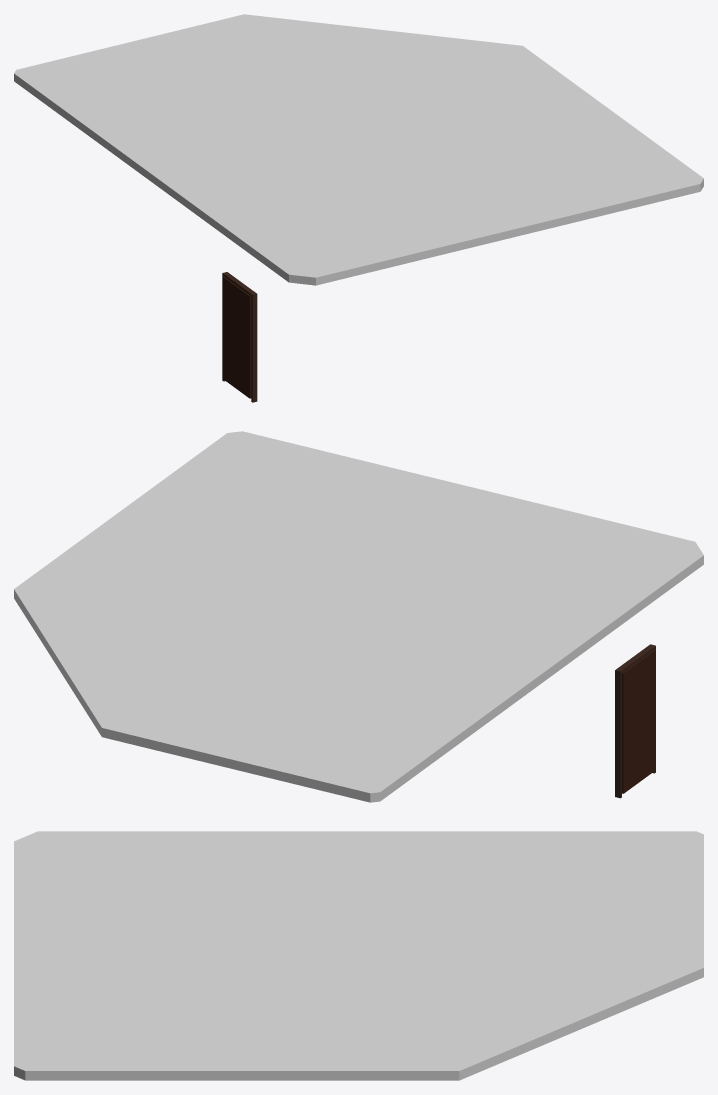
Rendered from Office_door.fbx.
3 views of the same model, one above another, from view 1: azimuth 30°, elevation 25°; view 2: azimuth 150°, elevation 25°; view 3: azimuth 270°, elevation 25° (orthographic). The views are drawn at different scales.
Visible parts, largest first — view 1: ceiling, Würfel, Würfel.003; view 2: ceiling, Würfel, Würfel.002; view 3: ceiling.
Part boxes in pixels (bbox=[...]): ceiling: bbox=[14, 14, 703, 285]; Würfel: bbox=[222, 276, 251, 398]; Würfel.003: bbox=[251, 294, 257, 402]; ceiling: bbox=[14, 431, 703, 802]; Würfel: bbox=[622, 649, 655, 793]; Würfel.002: bbox=[615, 670, 621, 798]; ceiling: bbox=[14, 831, 703, 1080].
Bounding box in the file's own units: 813 × 297 × 989.
